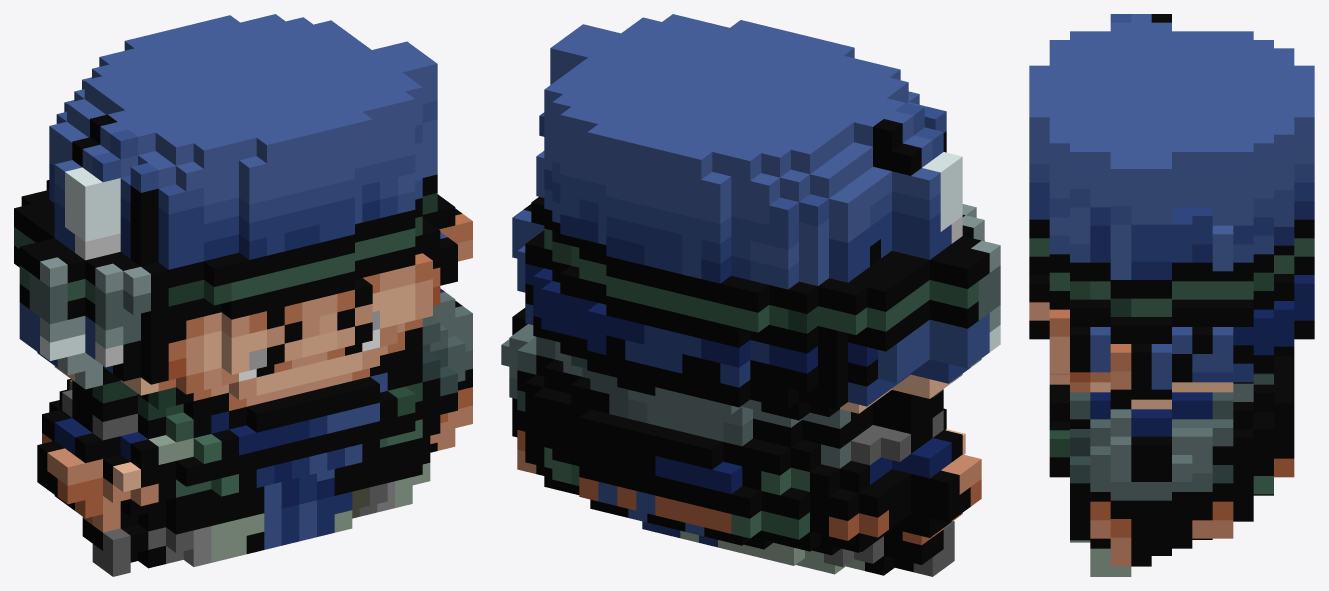
The model's file is Icon_103_02.obj.
3 views of the same model, side by side, from view 1: azimuth 30°, elevation 25°; view 2: azimuth 150°, elevation 25°; view 3: azimuth 270°, elevation 25° (orthographic). The views are drawn at different scales.
Bounding box in the file's own units: 2.4 × 2.3 × 1.4.
